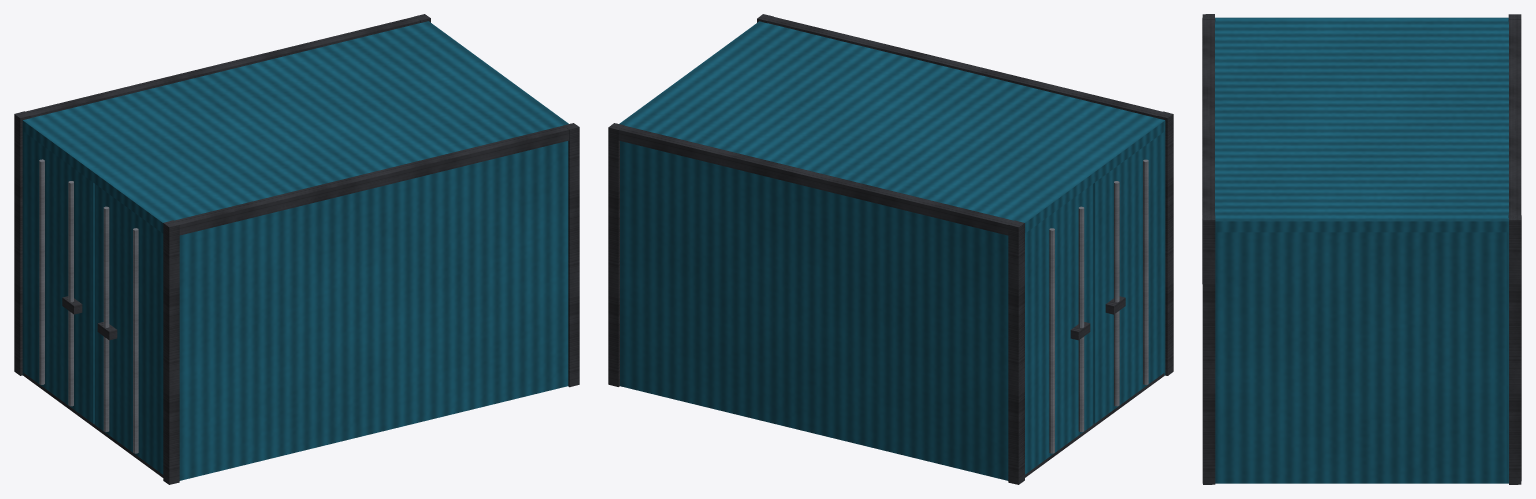
The model's file is Container_Closed.fbx.
3 views of the same model, side by side, from view 1: azimuth 30°, elevation 25°; view 2: azimuth 150°, elevation 25°; view 3: azimuth 270°, elevation 25° (orthographic). The views are drawn at different scales.
Parts seen in each view (by area): view 1: Container_Closed; view 2: Container_Closed; view 3: Container_Closed.
Boxes of the visible parts, x1,y1,x2,y2 form: Container_Closed: (14,14,579,484); Container_Closed: (608,14,1173,484); Container_Closed: (1202,14,1521,484).
Bounding box in the file's own units: 4.1 × 2.43 × 2.65.
3 materials, 3 textured.
